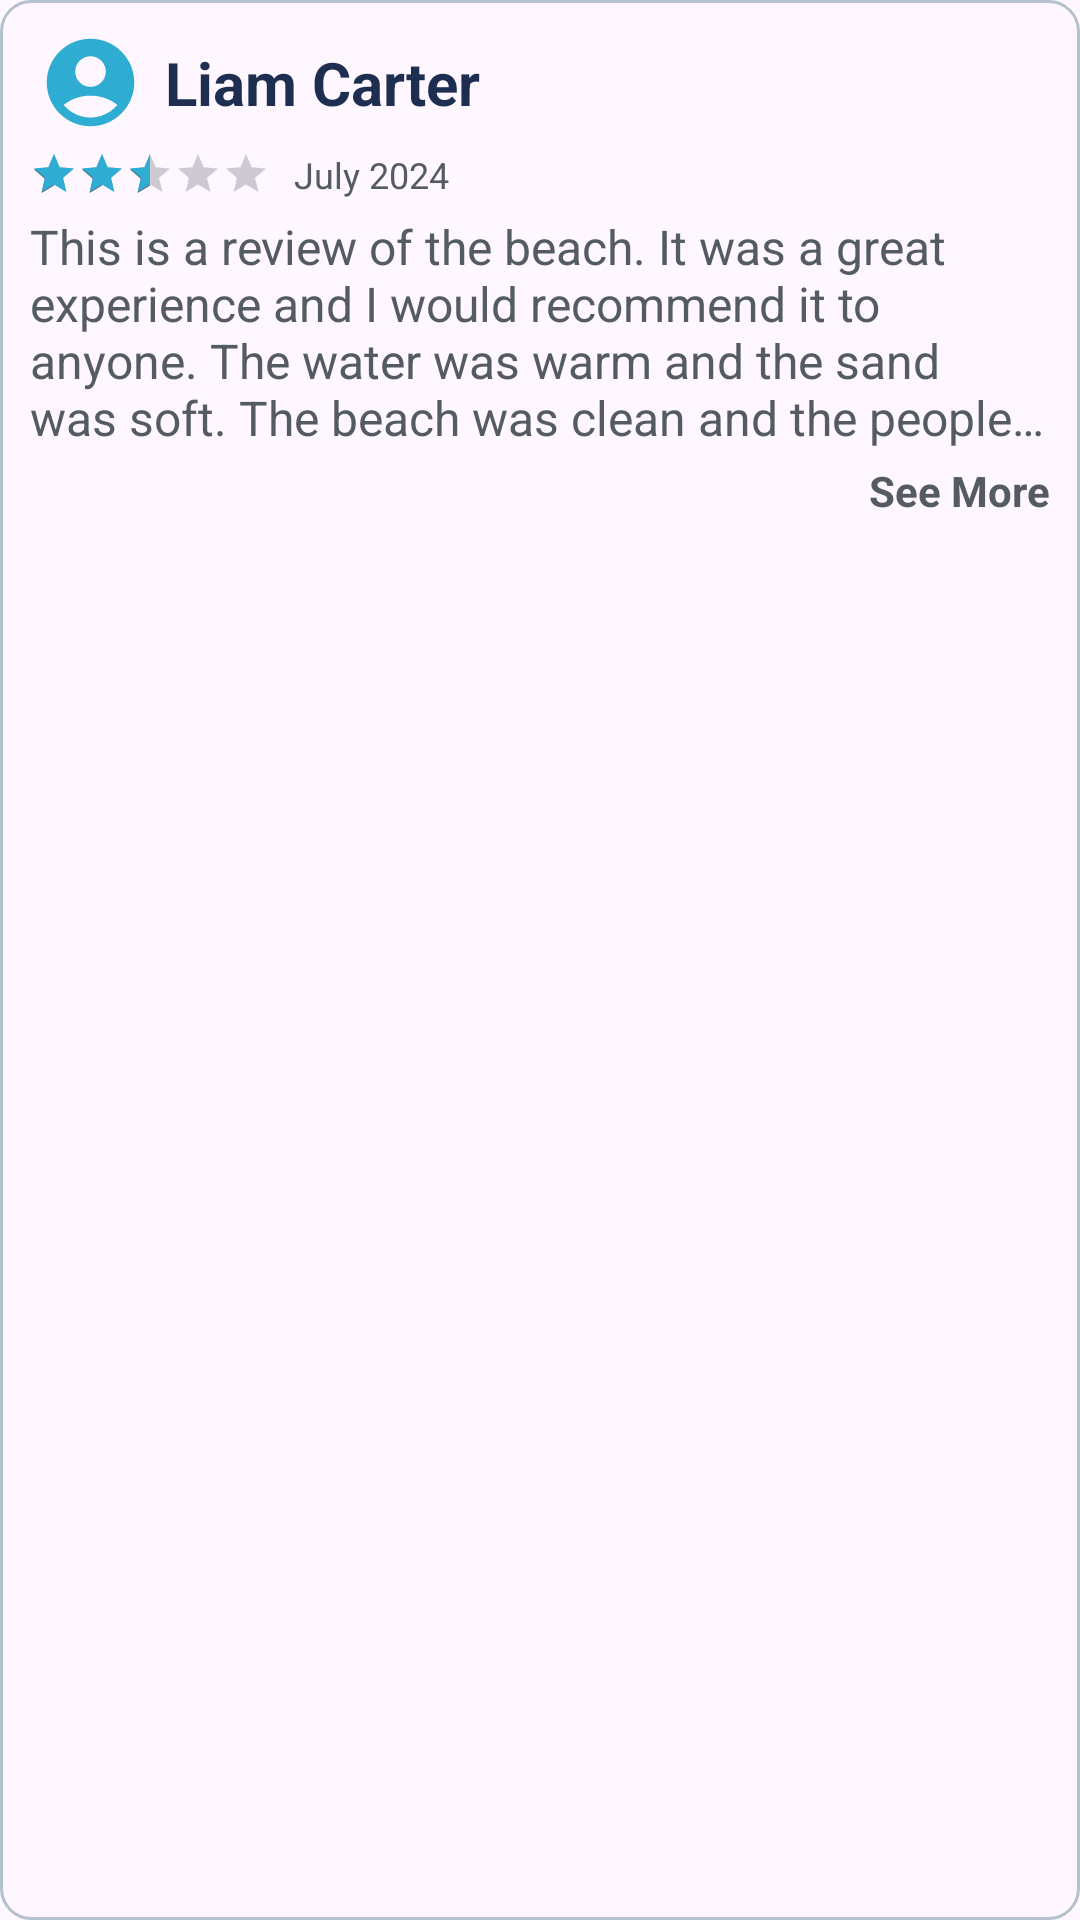

Locate icon controls on the screen. Image size 1080px x 1920px, boxes as bbox(x1, y1, x2, y2).
profile pic: bbox(46, 38, 135, 127)
